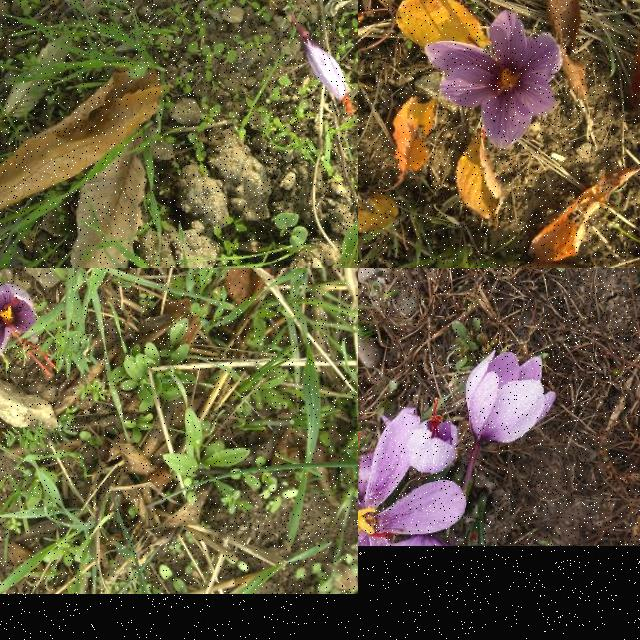flower: (424, 8, 564, 150), (358, 398, 467, 546), (465, 350, 557, 446), (0, 284, 60, 378), (304, 36, 356, 116), (408, 398, 459, 474)
